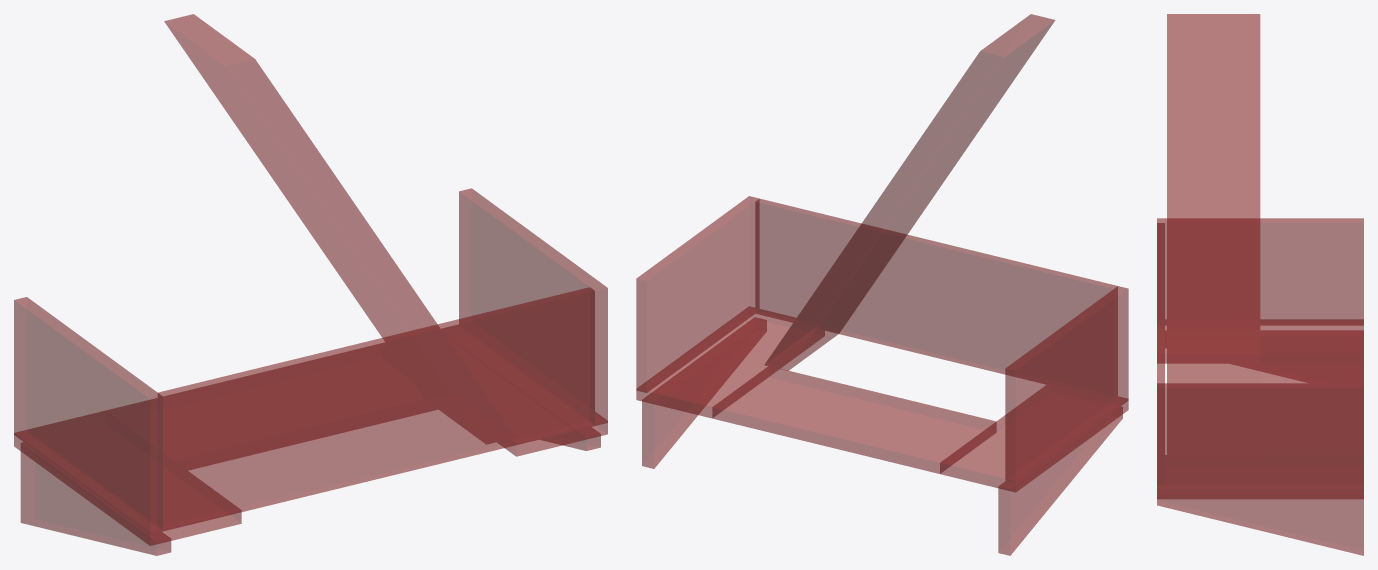
File: SM_Bld_FireEscape_02_Collision.fbx
3 renders of one model, left to right at view 1: azimuth 30°, elevation 25°; view 2: azimuth 150°, elevation 25°; view 3: azimuth 270°, elevation 25°, orthographic. The views are drawn at different scales.
Visible parts, largest first — view 1: SM_Bld_FireEscape_02_Collision; view 2: SM_Bld_FireEscape_02_Collision; view 3: SM_Bld_FireEscape_02_Collision.
Boxes of the visible parts, x1,y1,x2,y2 form: SM_Bld_FireEscape_02_Collision: (14,14,607,555); SM_Bld_FireEscape_02_Collision: (636,14,1128,555); SM_Bld_FireEscape_02_Collision: (1157,14,1363,555).
Size of the model in its own units: 318 by 354 by 164.
